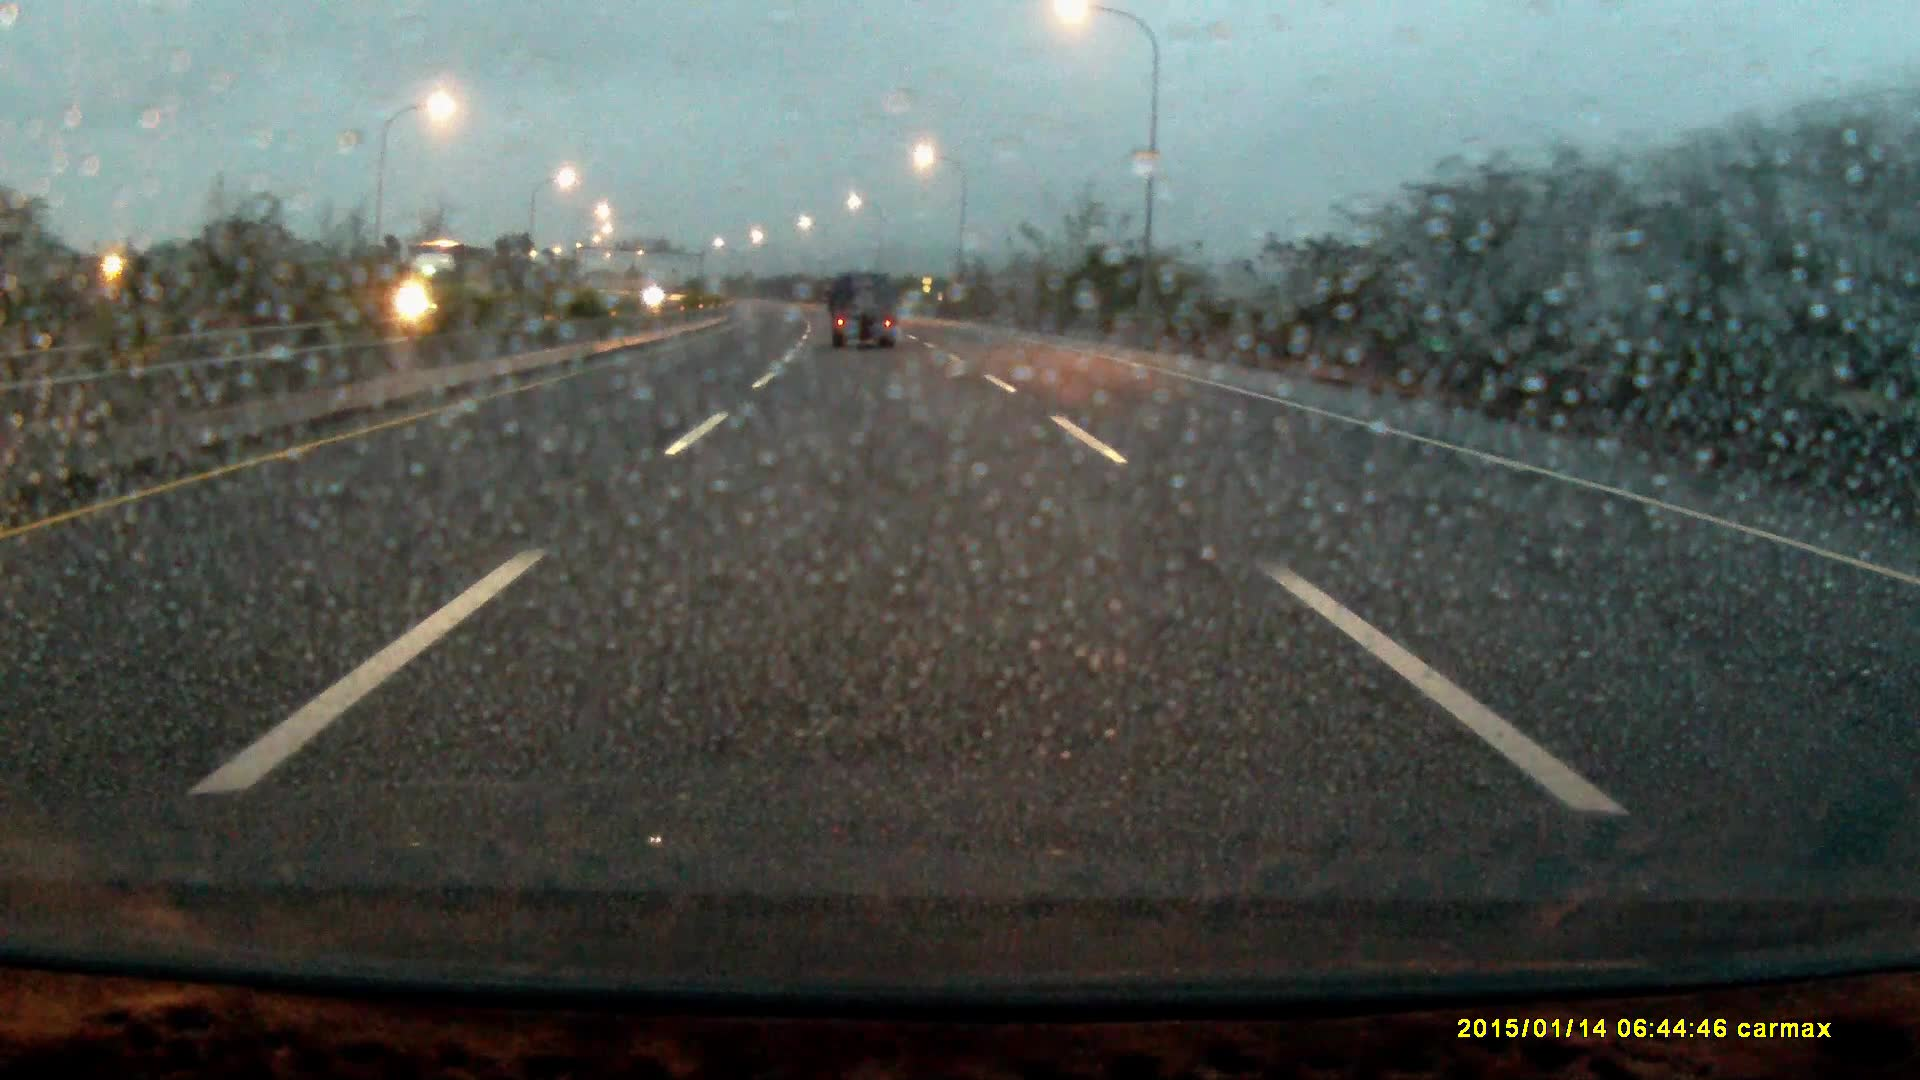vehicle: (392, 239, 516, 335), (829, 272, 902, 349)
